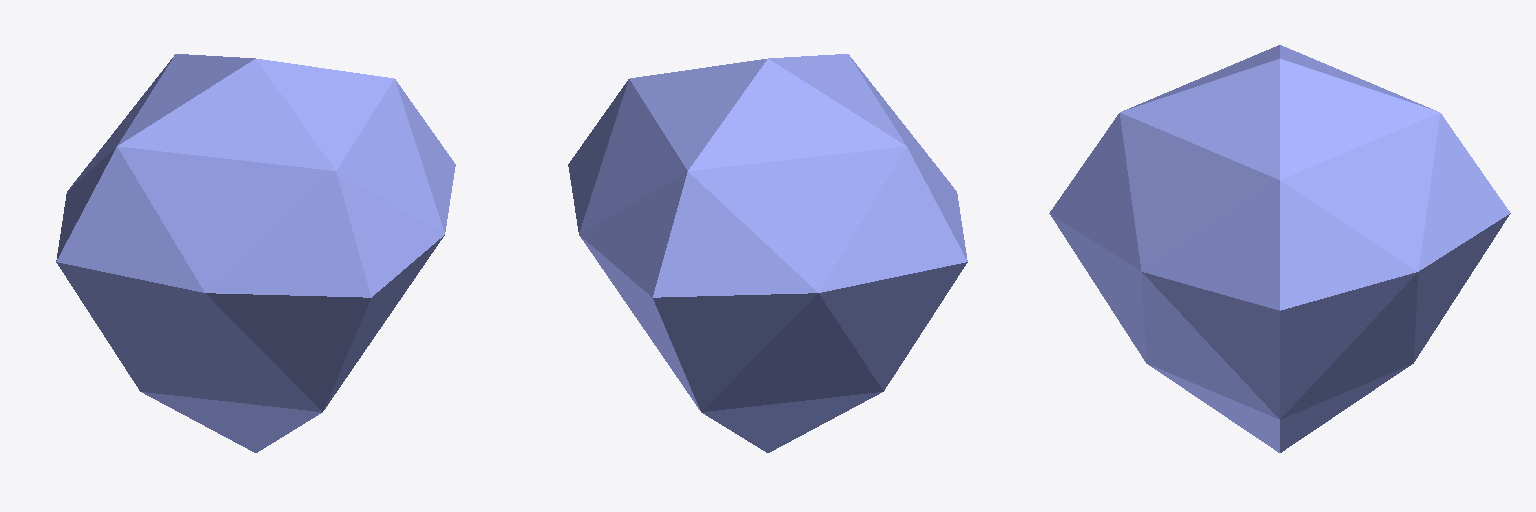
3 views of the same model, side by side, from view 1: azimuth 30°, elevation 25°; view 2: azimuth 150°, elevation 25°; view 3: azimuth 270°, elevation 25° (orthographic).
Parts seen in each view (by area): view 1: Платоново_тело; view 2: Платоново_тело; view 3: Платоново_тело.
Part boxes in pixels (x1,y1,x2,y2): Платоново_тело: (56, 54, 455, 452); Платоново_тело: (568, 54, 967, 452); Платоново_тело: (1049, 45, 1510, 452).
Bounding box in the file's own units: 1 × 0.9446 × 1.
1 materials, 1 textured.